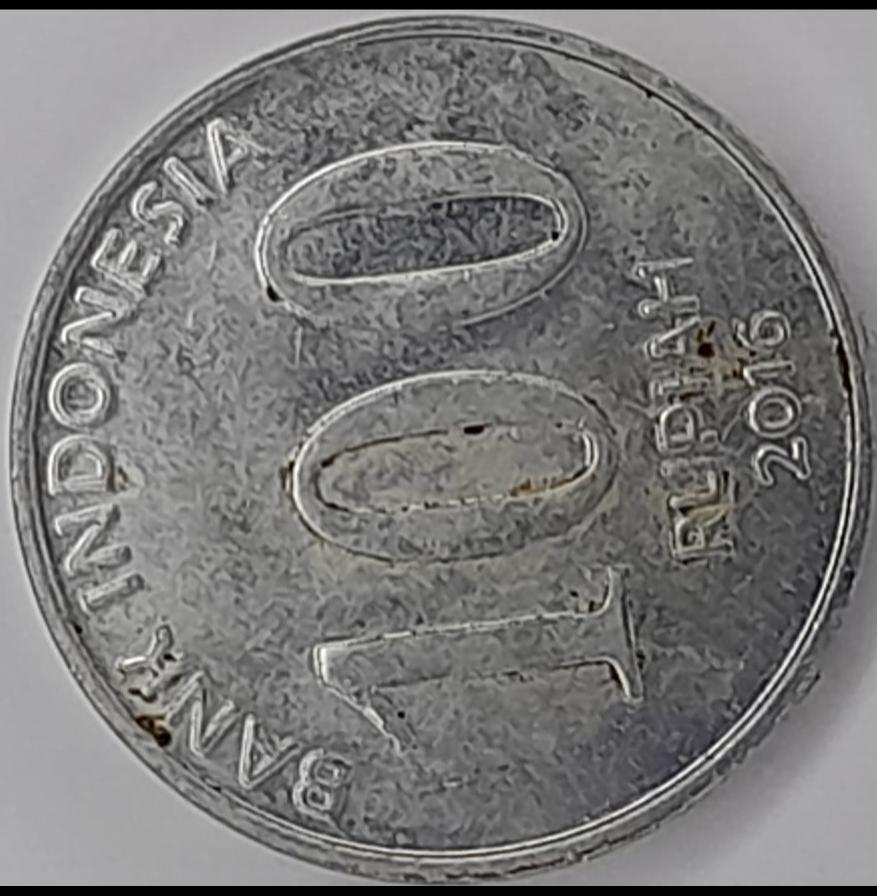coin_100_e2016: (2, 10, 876, 882)
